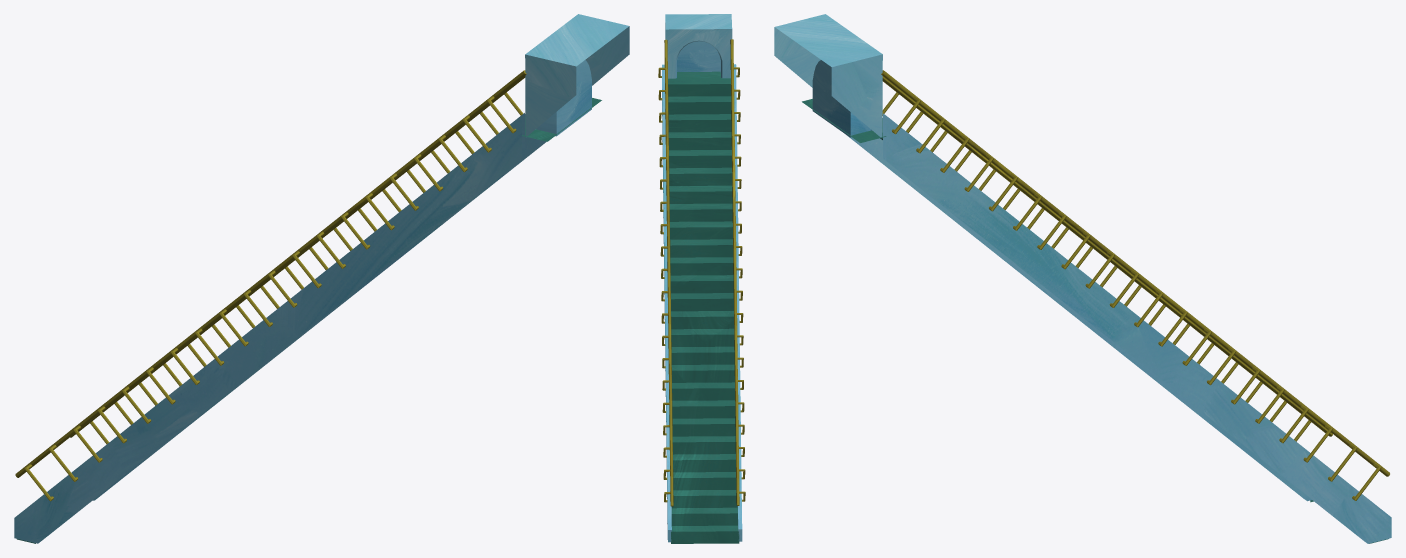
File: SM_Stairs_04.fbx
3 views of the same model, side by side, from view 1: azimuth 30°, elevation 25°; view 2: azimuth 150°, elevation 25°; view 3: azimuth 270°, elevation 25° (orthographic). The views are drawn at different scales.
Visible parts, largest first — view 1: SM_Stairs_04; view 2: SM_Stairs_04; view 3: SM_Stairs_04.
Boxes of the visible parts, x1,y1,x2,y2 form: SM_Stairs_04: [14, 14, 629, 543]; SM_Stairs_04: [658, 14, 745, 543]; SM_Stairs_04: [774, 14, 1391, 543].
Bounding box in the file's own units: 2262 × 3513 × 3208.
